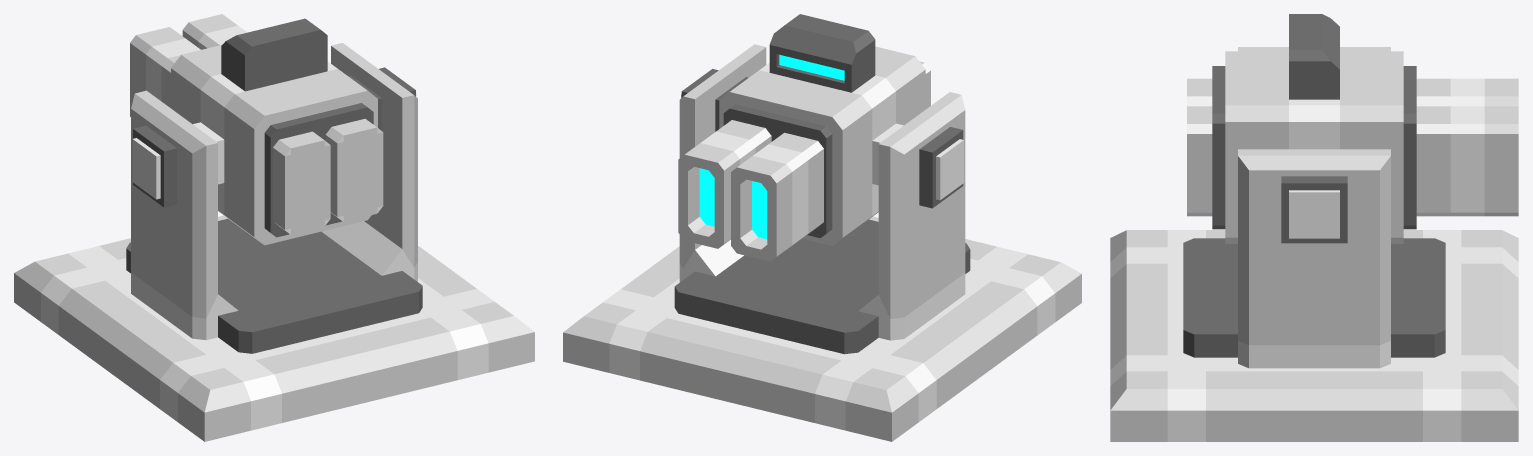
Rendered from TurretShotgun.fbx.
3 views of the same model, side by side, from view 1: azimuth 30°, elevation 25°; view 2: azimuth 150°, elevation 25°; view 3: azimuth 270°, elevation 25° (orthographic). The views are drawn at different scales.
Parts seen in each view (by area): view 1: BasePlate, Rotator, Chasis, BarrelLeft, BarrelRight; view 2: BasePlate, Rotator, Chasis, BarrelLeft, BarrelRight; view 3: BasePlate, Rotator, Chasis, BarrelRight, BarrelLeft.
Boxes of the visible parts, x1=… form: BasePlate: x1=14, y1=215, x2=534, y2=441; Rotator: x1=126, y1=43, x2=422, y2=353; Chasis: x1=132, y1=18, x2=416, y2=245; BarrelLeft: x1=130, y1=27, x2=330, y2=234; BarrelRight: x1=182, y1=14, x2=383, y2=221; BasePlate: x1=563, y1=216, x2=1081, y2=441; Rotator: x1=674, y1=44, x2=970, y2=354; Chasis: x1=681, y1=14, x2=963, y2=245; BarrelLeft: x1=731, y1=61, x2=930, y2=261; BarrelRight: x1=678, y1=120, x2=771, y2=248; BasePlate: x1=1110, y1=230, x2=1518, y2=441; Rotator: x1=1183, y1=47, x2=1445, y2=368; Chasis: x1=1212, y1=14, x2=1416, y2=243; BarrelRight: x1=1187, y1=106, x2=1518, y2=216; BarrelLeft: x1=1187, y1=78, x2=1518, y2=106.
Size of the model in its own units: 160 by 160 by 140.
